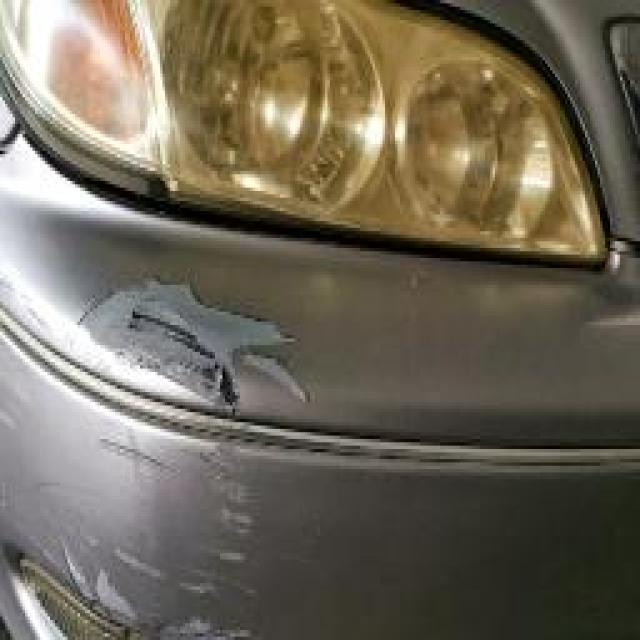Bumper: (2, 204, 435, 633)
